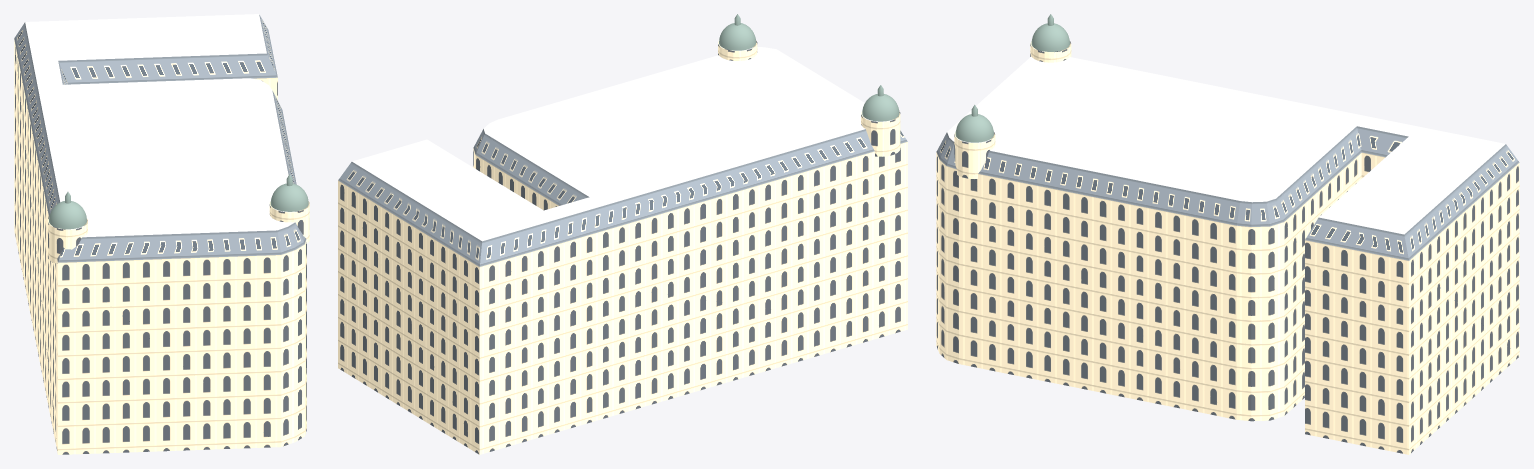
Rendered from landmark-four-seasons.glb.
The picture shows the model from 3 angles, left to right: view 1: azimuth 30°, elevation 25°; view 2: azimuth 150°, elevation 25°; view 3: azimuth 270°, elevation 25°; orthographic projection. The views are drawn at different scales.
Parts seen in each view (by area): view 1: four-seasons; view 2: four-seasons; view 3: four-seasons.
Part boxes in pixels (x1,y1,x2,y2): four-seasons: (14, 14, 309, 454); four-seasons: (338, 14, 907, 454); four-seasons: (936, 14, 1519, 454).
Size of the model in its own units: 81.6 by 49.56 by 103.
Materials: 4 (2 with a texture image).
